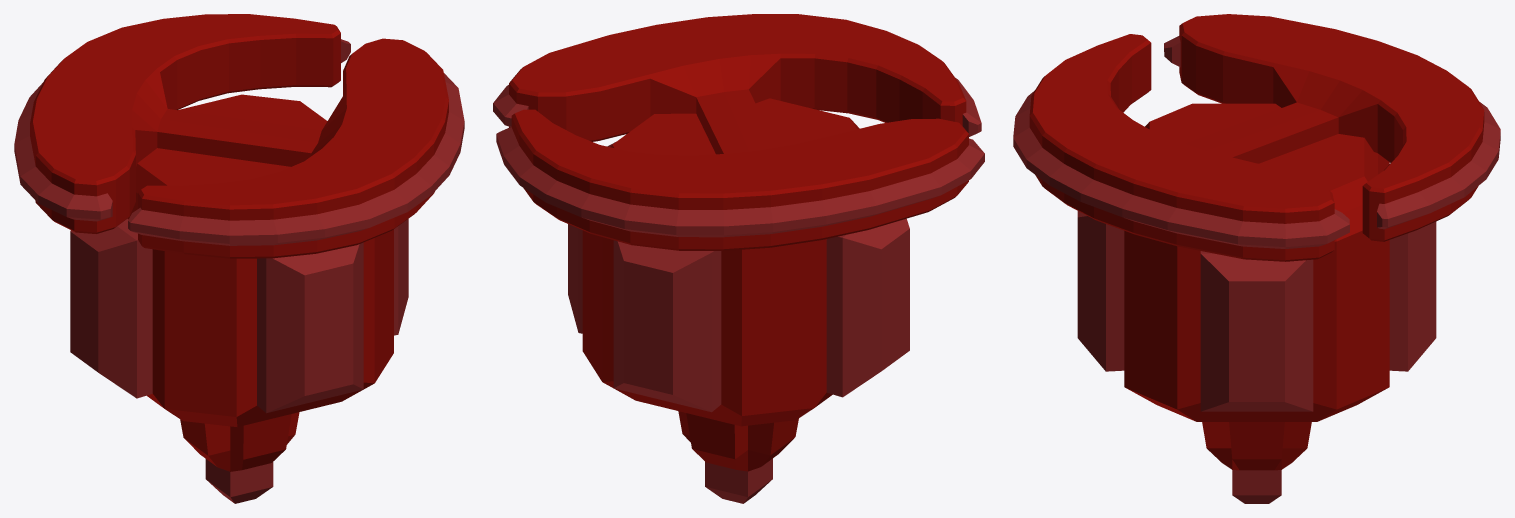
The model's file is RedHeavyBB.fbx.
The picture shows the model from 3 angles, left to right: view 1: azimuth 30°, elevation 25°; view 2: azimuth 150°, elevation 25°; view 3: azimuth 270°, elevation 25°; orthographic projection.
Parts seen in each view (by area): view 1: HeadRed, MidRed, LegRed; view 2: HeadRed, MidRed, LegRed; view 3: HeadRed, MidRed, LegRed.
Part boxes in pixels (bbox=[...]): HeadRed: bbox=[14, 14, 464, 258]; MidRed: bbox=[70, 94, 408, 427]; LegRed: bbox=[180, 412, 299, 503]; HeadRed: bbox=[493, 14, 984, 250]; MidRed: bbox=[568, 98, 909, 426]; LegRed: bbox=[678, 411, 798, 503]; HeadRed: bbox=[1013, 14, 1500, 261]; MidRed: bbox=[1077, 103, 1436, 421]; LegRed: bbox=[1202, 422, 1311, 503].
Bounding box in the file's own units: 84.8 × 73.2 × 83.06.
